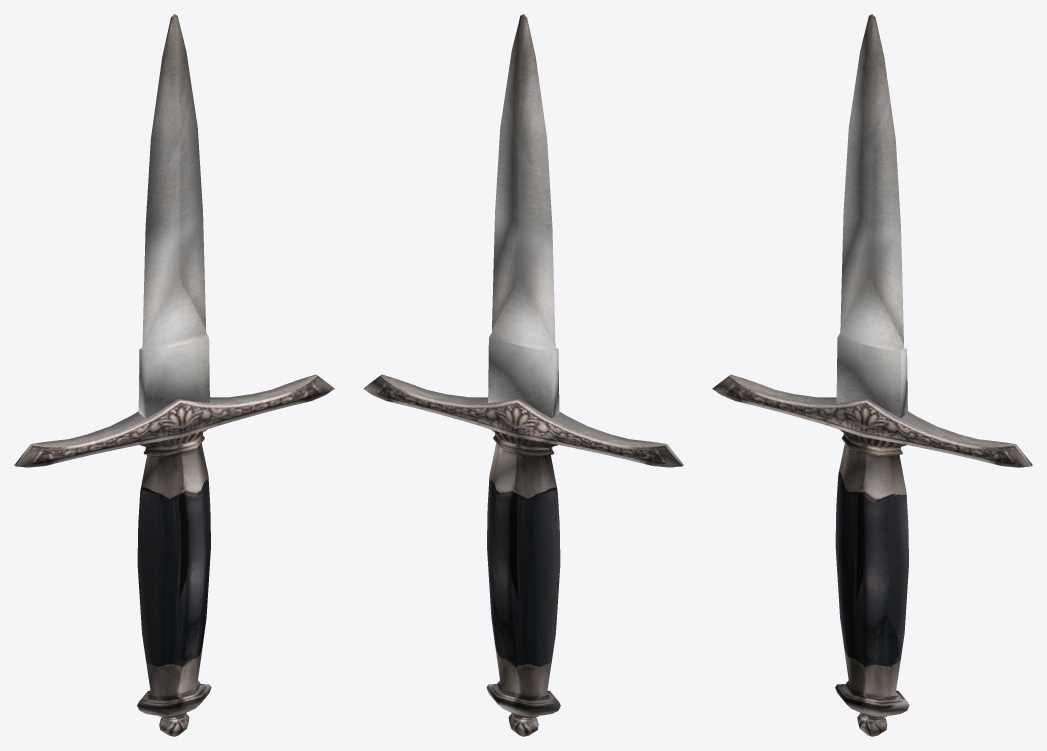
The model's file is dagger.fbx.
The picture shows the model from 3 angles, left to right: view 1: azimuth 30°, elevation 25°; view 2: azimuth 150°, elevation 25°; view 3: azimuth 330°, elevation 25°; orthographic projection.
Visible parts, largest first — view 1: Cube.004; view 2: Cube.004; view 3: Cube.004.
Part boxes in pixels (x1=…): Cube.004: x1=14, y1=14, x2=334, y2=736; Cube.004: x1=363, y1=14, x2=683, y2=736; Cube.004: x1=712, y1=14, x2=1032, y2=736.
Size of the model in its own units: 15.83 by 34.28 by 1.9.
